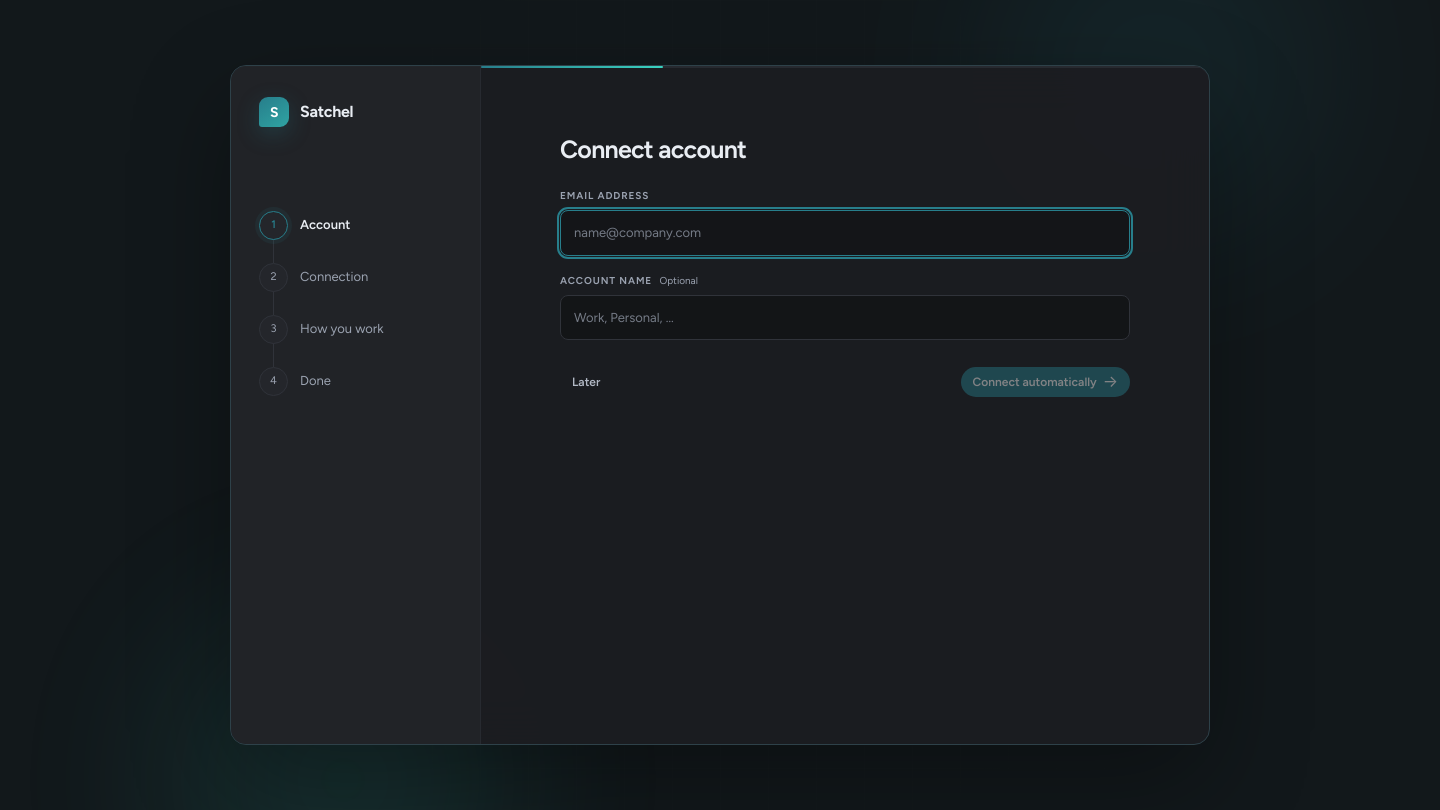
Test: company domains behind Google Workspace or Microsoft 365 › keeps the password form for a domain that hosts its own mail
Type "anna@self-hosted.example" into the field labelled "Email address".
click(845, 233); type("anna@self-hosted.example")  # box x1=560 y1=210 x2=1130 y2=256
Wait 400 ms
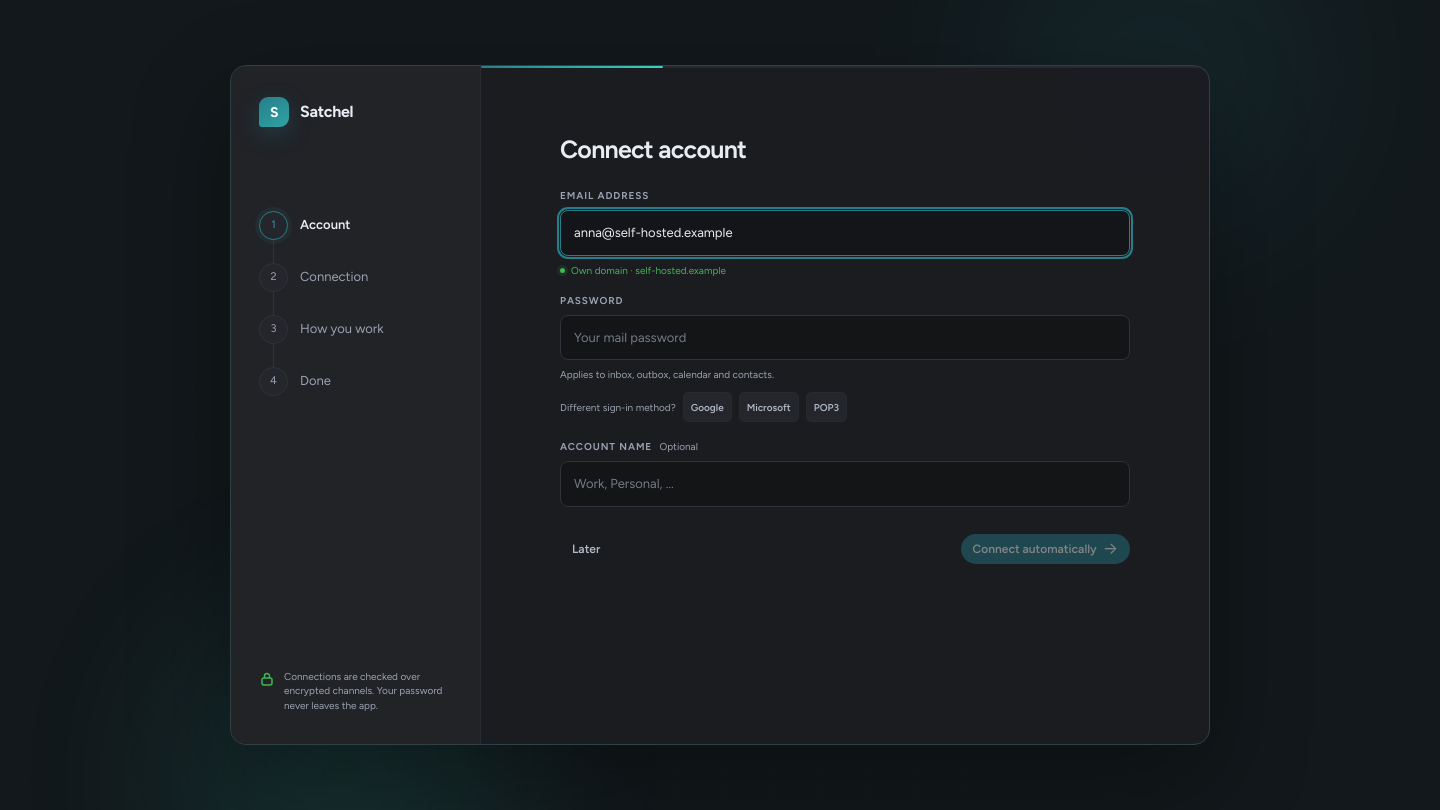
Result: the password field labelled "Password Applies to inbox, outbox, calendar and contacts." is shown at x1=560 y1=314 x2=1130 y2=360
Result: the text "self-hosted.example" is shown at x1=571 y1=264 x2=726 y2=276
